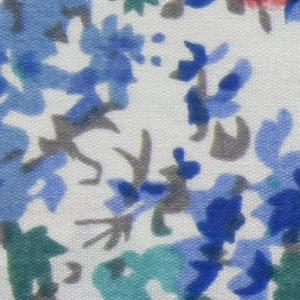Stain: (226, 1, 300, 21)
